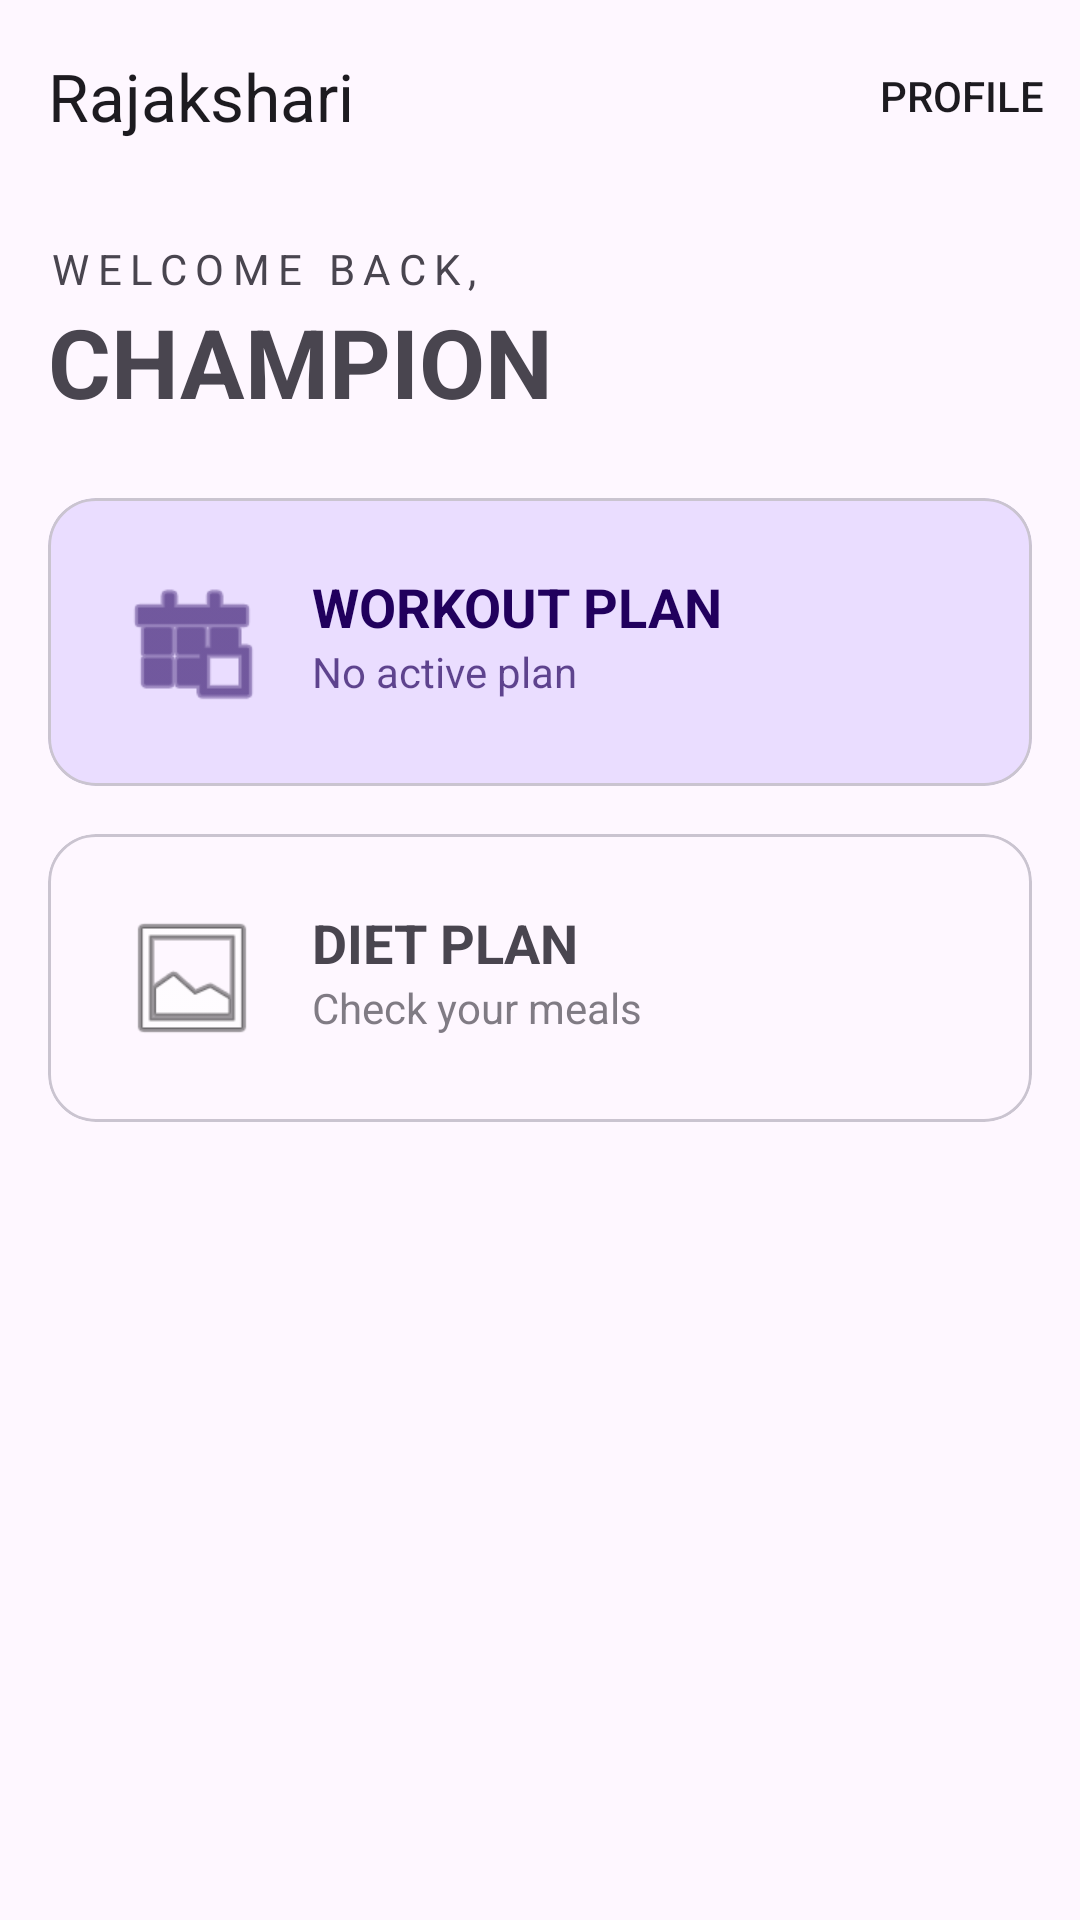

Screen size 1080x1920. Icon name, then its center in pixels as (x=x, y=y):
gallery: (x=192, y=978)
today: (x=193, y=644)
